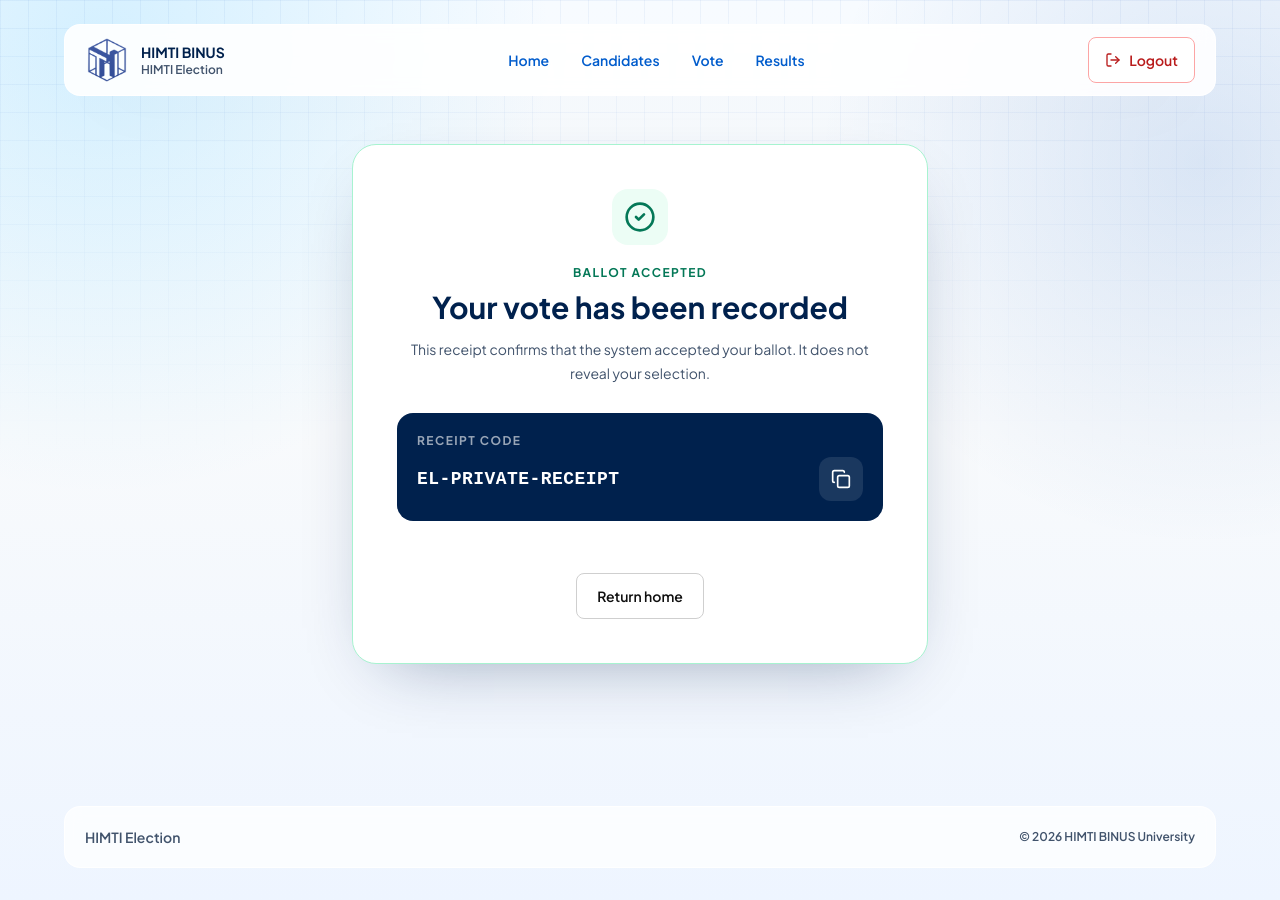
Test case: reports rejected clipboard writes without claiming success
Click the button named "Copy receipt code": (841, 479) left=819, top=457, right=863, bottom=501
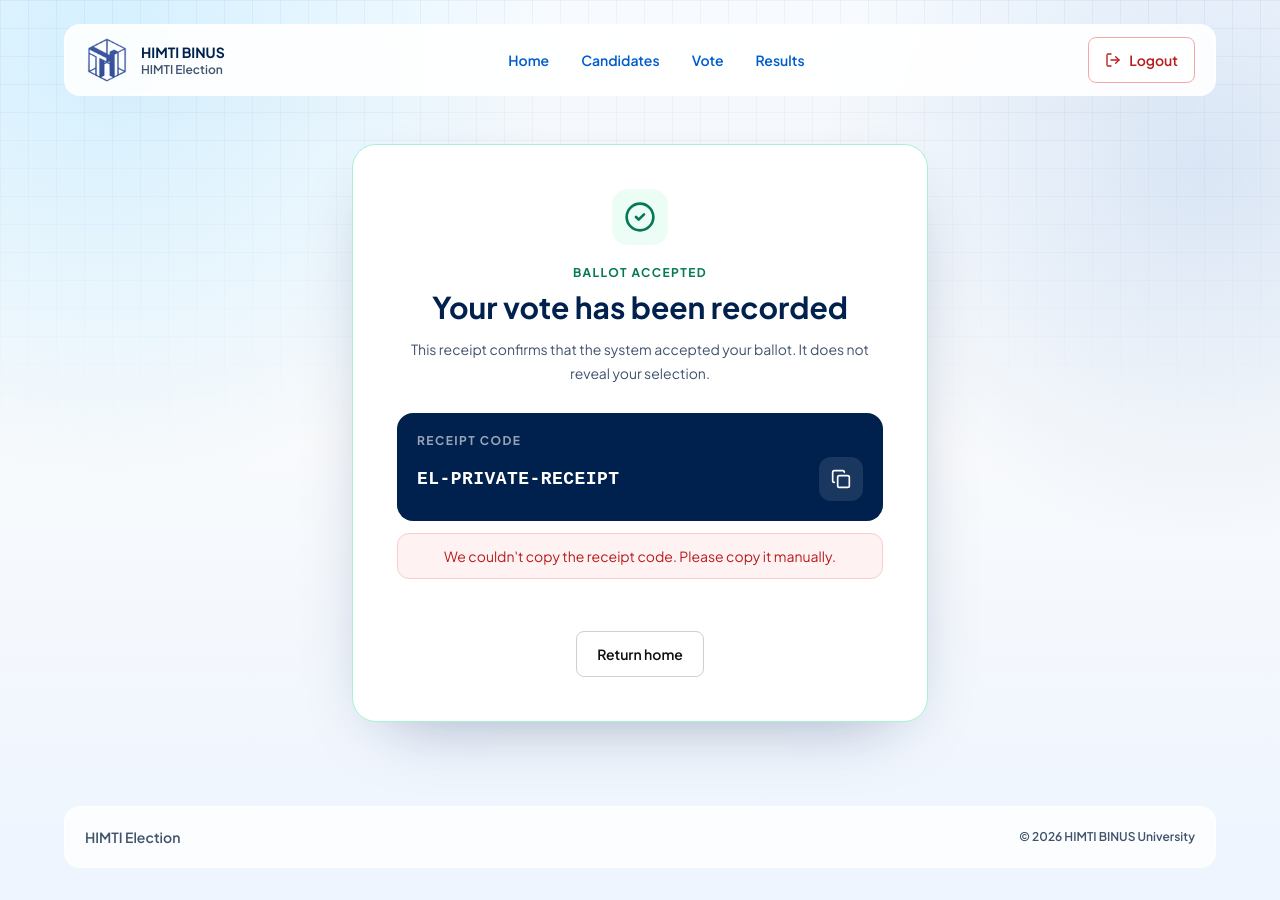
Expected: the message shows "Please copy it manually", left=444, top=547, right=836, bottom=565
